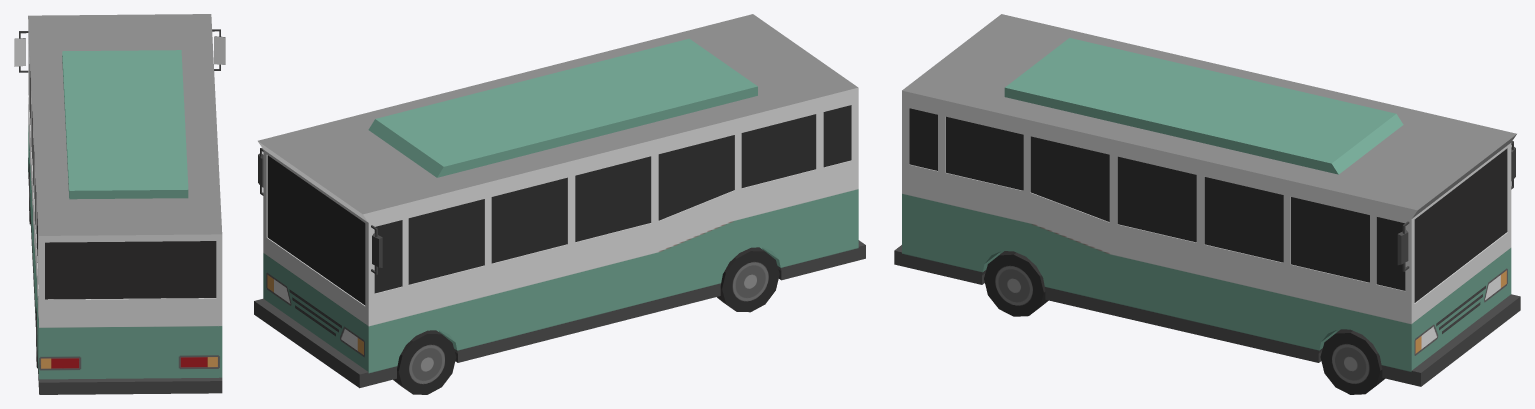
File: Car2_Bus2.glb
3 renders of one model, left to right at view 1: azimuth 30°, elevation 25°; view 2: azimuth 150°, elevation 25°; view 3: azimuth 270°, elevation 25°, orthographic. The views are drawn at different scales.
Parts seen in each view (by area): view 1: Vehicle_Bus_color02.001; view 2: Vehicle_Bus_color02.001; view 3: Vehicle_Bus_color02.001.
Boxes of the visible parts, bbox=[...] form: Vehicle_Bus_color02.001: bbox=[14, 14, 225, 394]; Vehicle_Bus_color02.001: bbox=[254, 14, 865, 394]; Vehicle_Bus_color02.001: bbox=[894, 14, 1520, 394].
Bounding box in the file's own units: 1.85 × 0.8946 × 2.42.
Materials: 1 (1 with a texture image).
